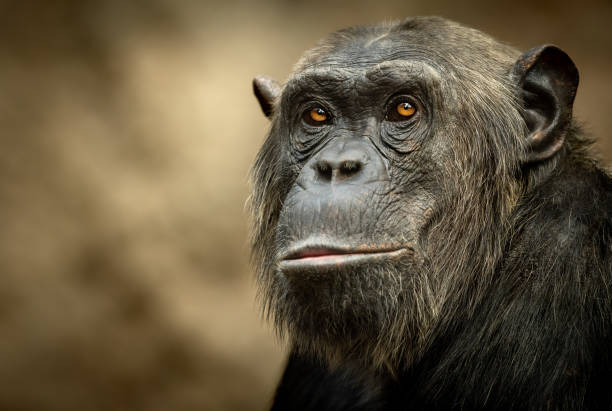chimpanzee: (208, 8, 593, 390)
